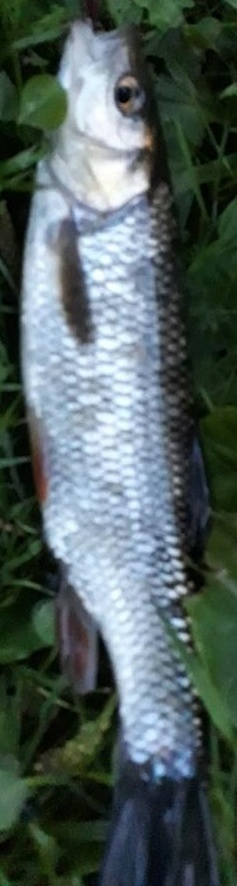Leuciscus cephalus: (20, 20, 217, 886)
